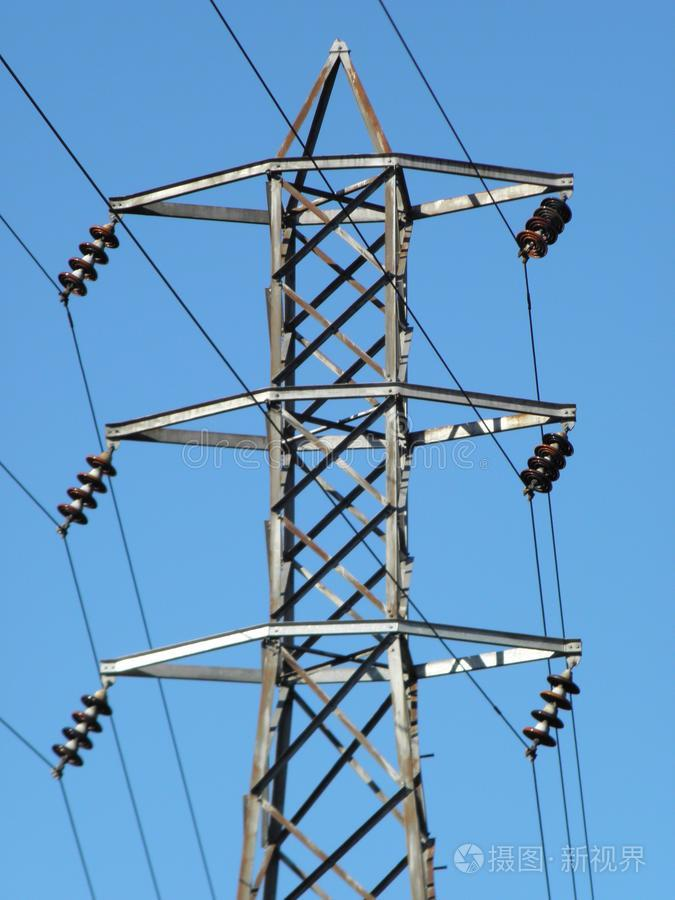insulator: (59, 450, 117, 528), (53, 692, 109, 767), (58, 223, 115, 296), (525, 674, 580, 745), (518, 195, 575, 254), (521, 435, 580, 491)
